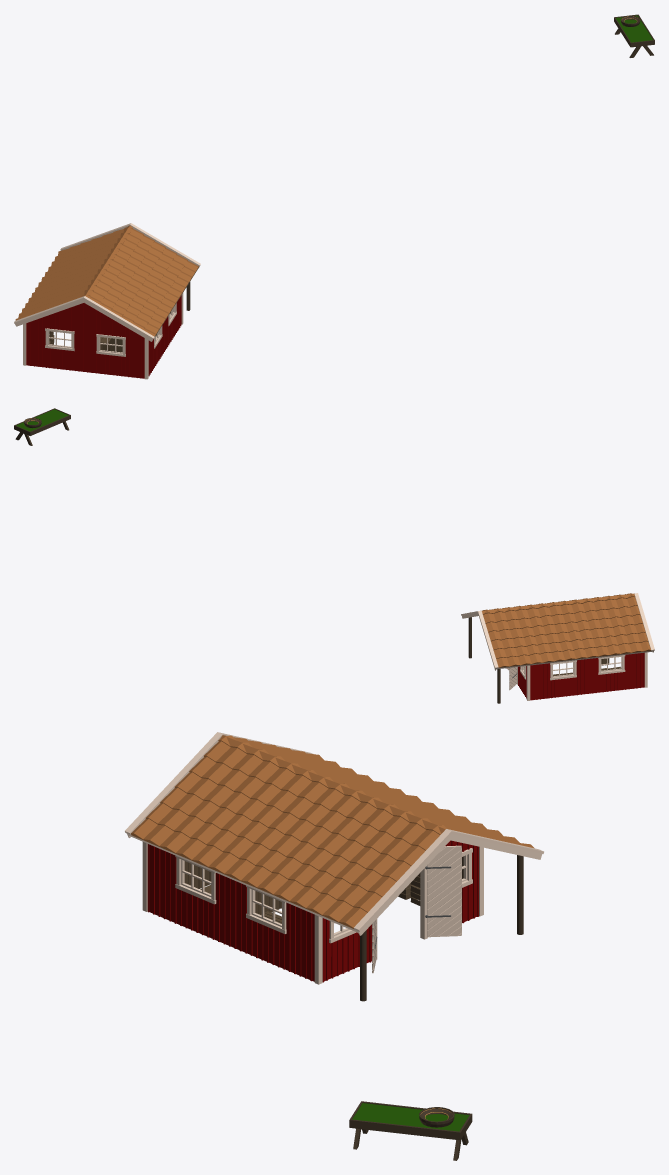
The model's file is Combined Mesh (root_ scene) 2_1.glb.
3 views of the same model, one above another, from view 1: azimuth 30°, elevation 25°; view 2: azimuth 150°, elevation 25°; view 3: azimuth 270°, elevation 25° (orthographic). The views are drawn at different scales.
Parts seen in each view (by area): view 1: Combined Mesh (root_ scene) 2_1; view 2: Combined Mesh (root_ scene) 2_1; view 3: Combined Mesh (root_ scene) 2_1.
Boxes of the visible parts, x1=… form: Combined Mesh (root_ scene) 2_1: x1=14, y1=14, x2=654, y2=379; Combined Mesh (root_ scene) 2_1: x1=14, y1=408, x2=654, y2=703; Combined Mesh (root_ scene) 2_1: x1=125, y1=732, x2=543, y2=1160.
Size of the model in its own units: 36.31 by 8.47 by 10.94.
Materials: 1 (1 with a texture image).
